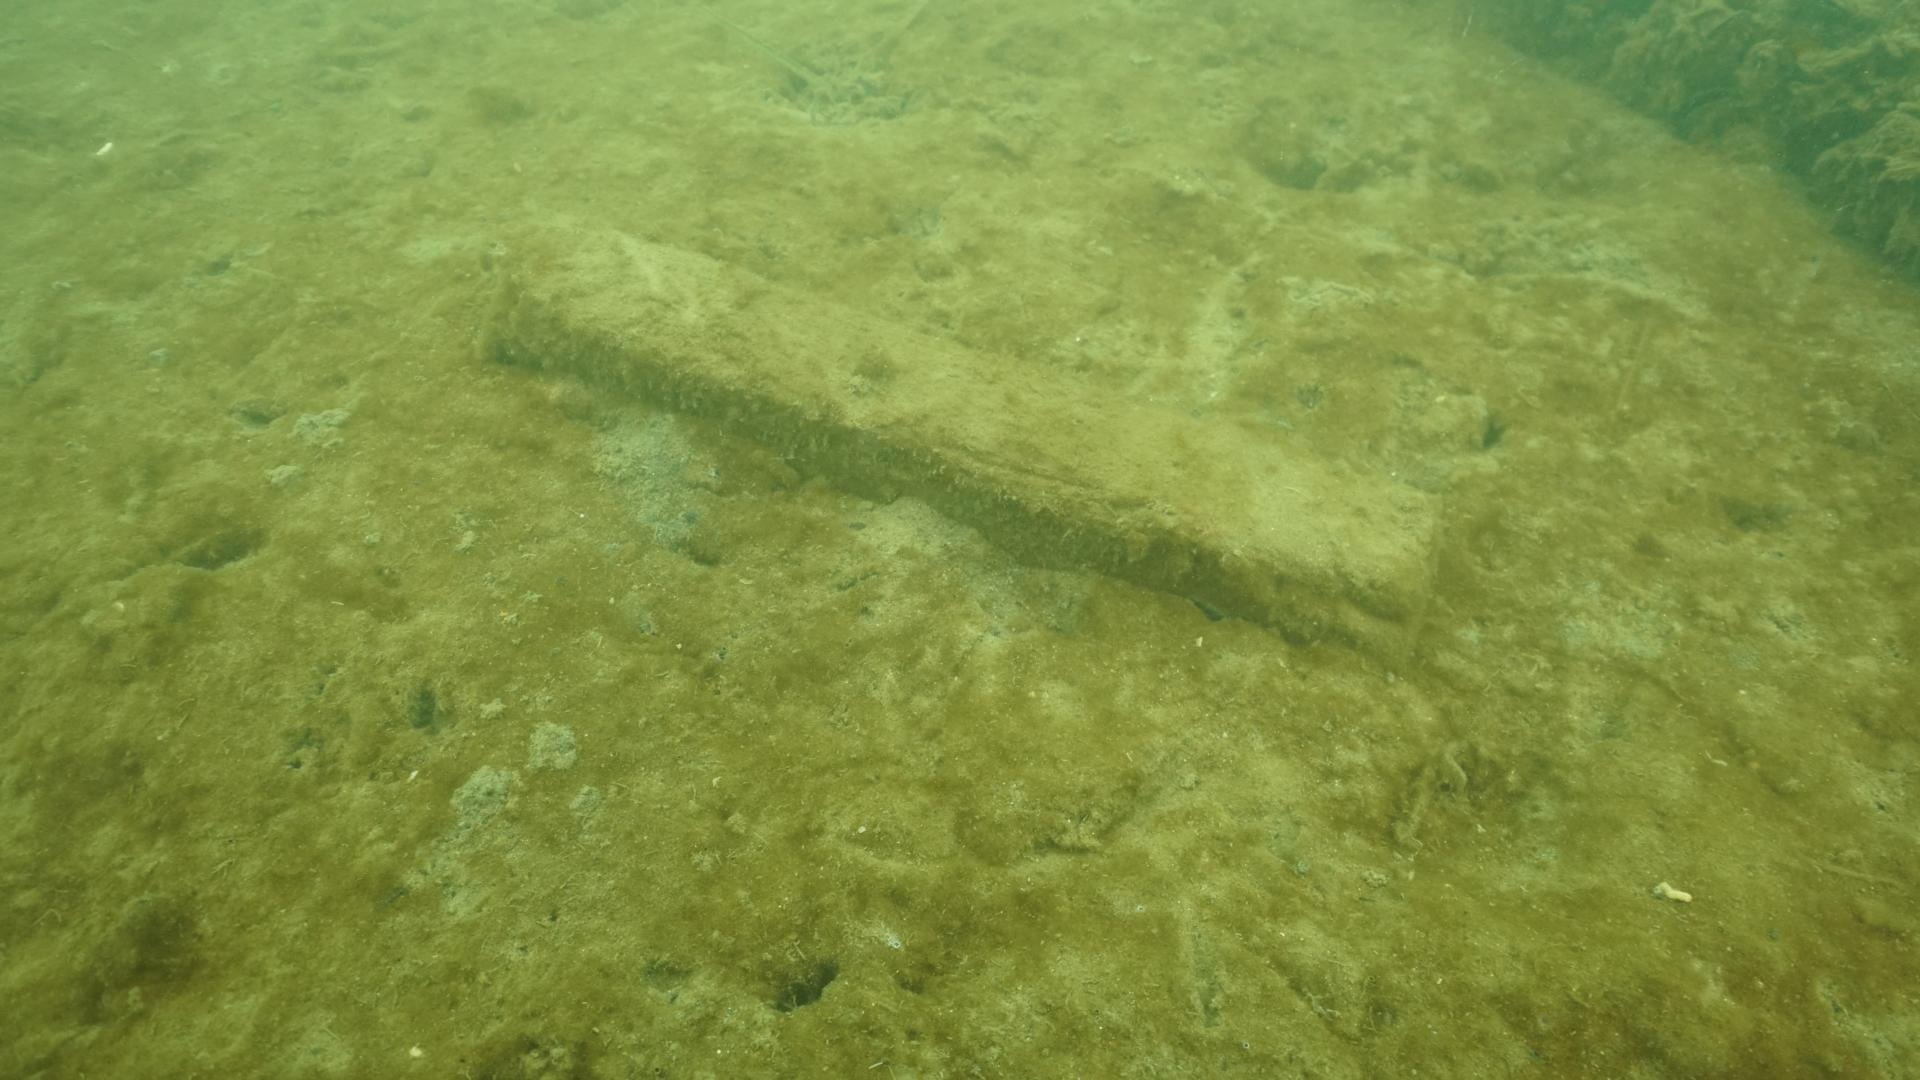wood: (471, 211, 1456, 686)
